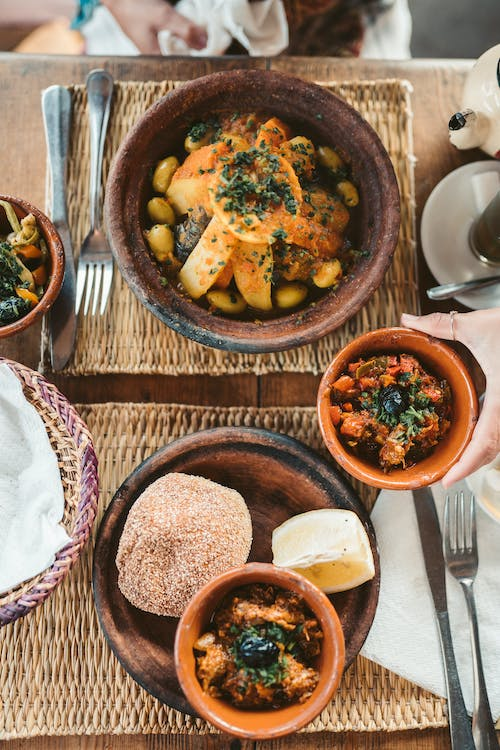knife: (410, 483, 478, 750), (39, 86, 79, 370)
